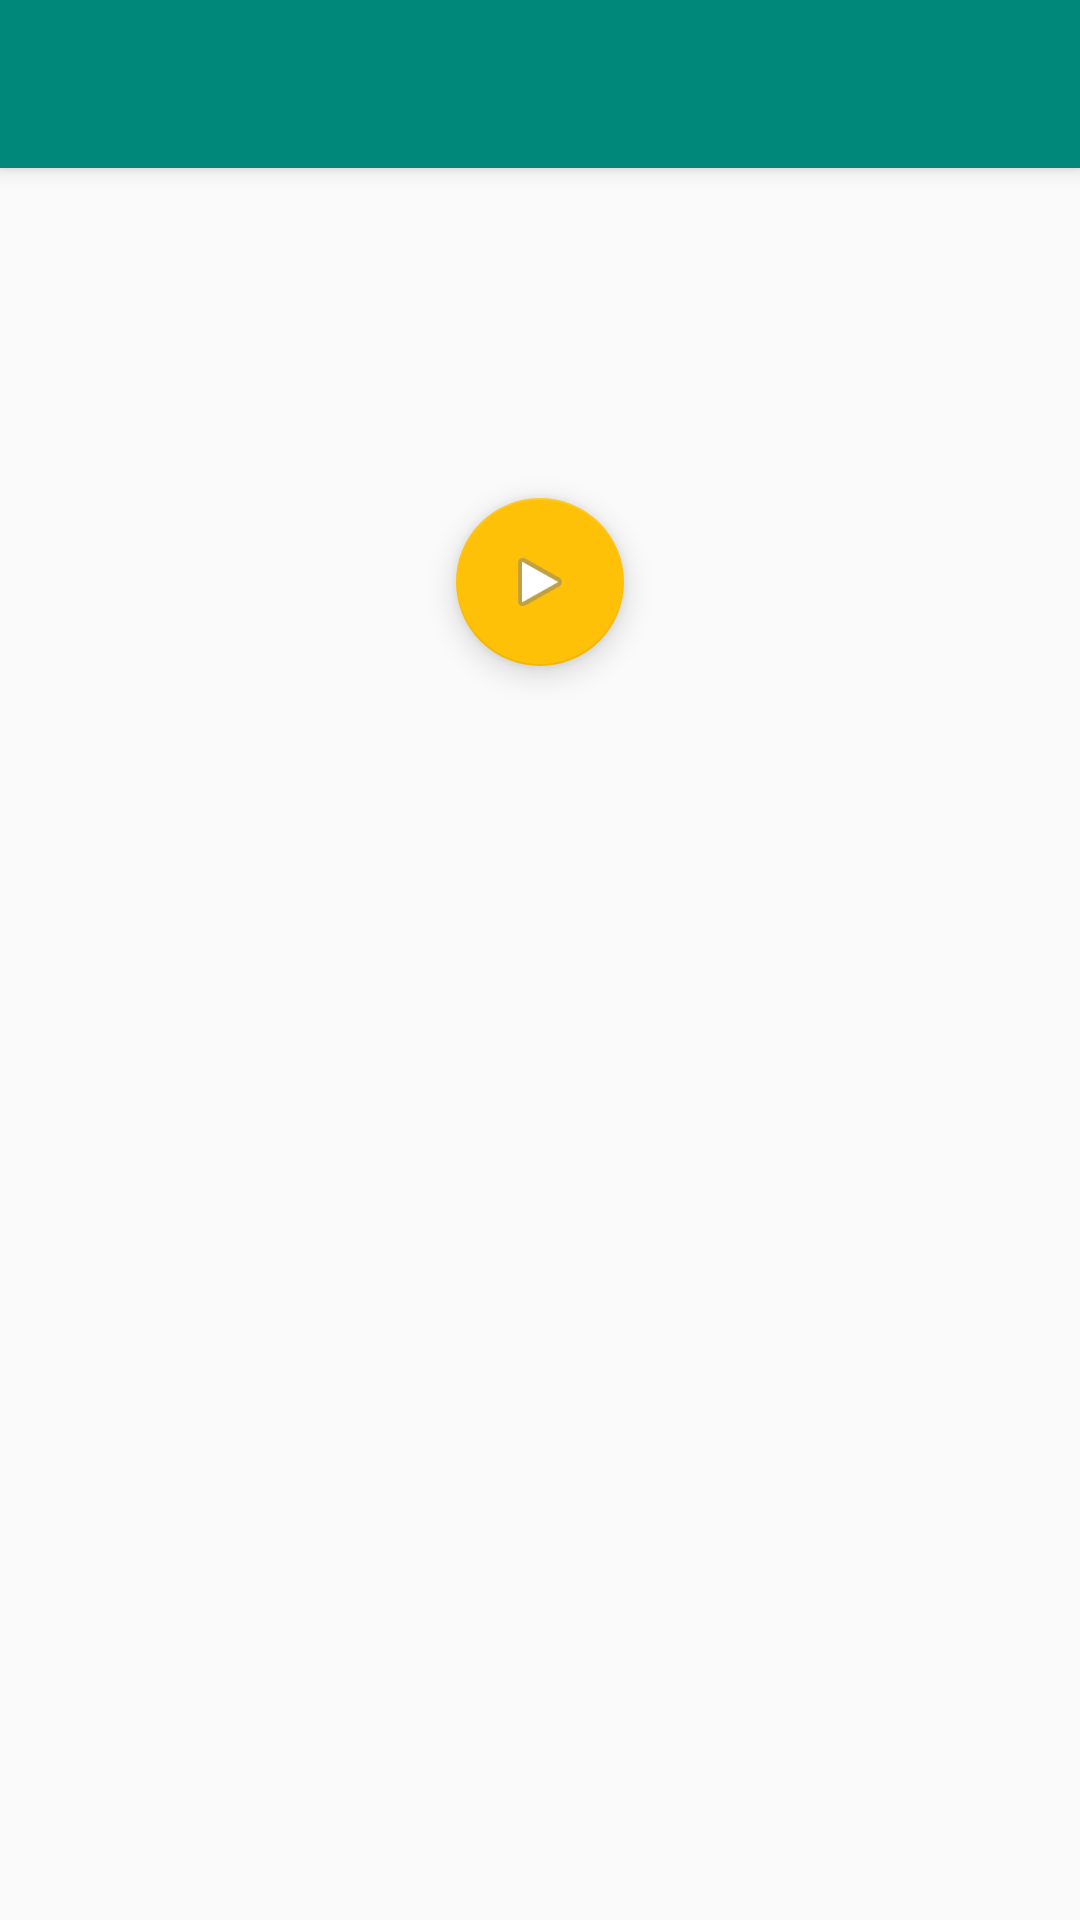

Icons on this 1080px x 1920px Android screen, each with the point to tap as (x,y):
play: (540,582)
